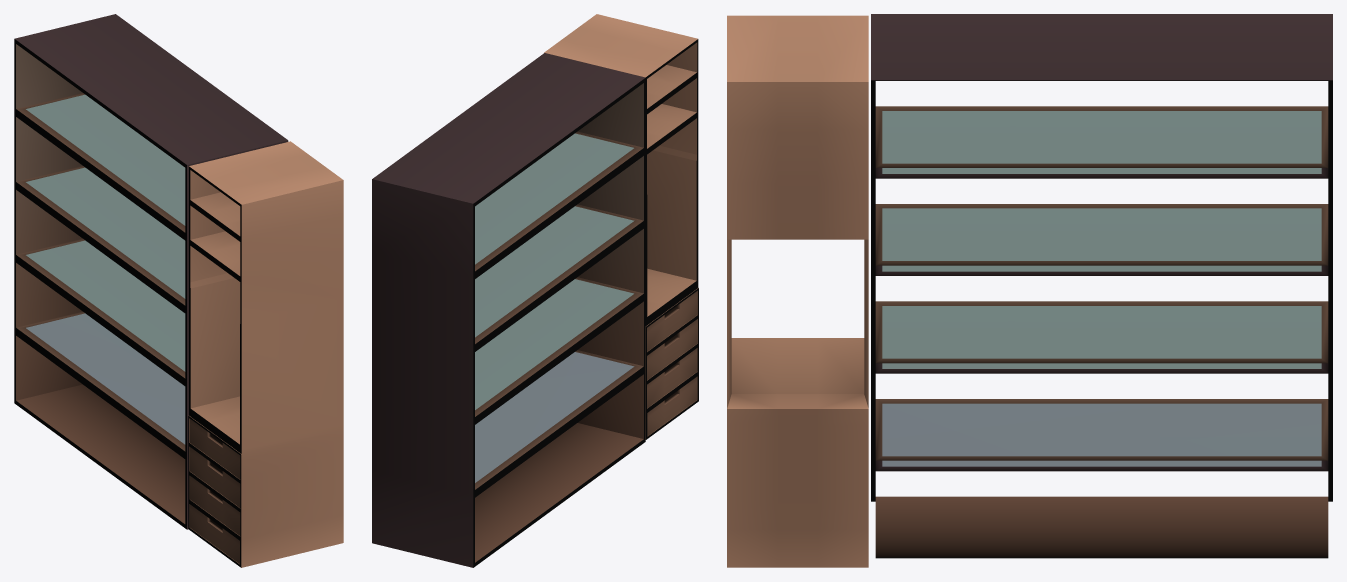
The model's file is Shkaf 3.fbx.
3 renders of one model, left to right at view 1: azimuth 30°, elevation 25°; view 2: azimuth 150°, elevation 25°; view 3: azimuth 270°, elevation 25°, orthographic. The views are drawn at different scales.
Parts seen in each view (by area): view 1: Shkaf 3; view 2: Shkaf 3; view 3: Shkaf 3.
Boxes of the visible parts, x1,y1,x2,y2 form: Shkaf 3: (14, 14, 343, 567); Shkaf 3: (372, 14, 698, 567); Shkaf 3: (727, 14, 1332, 567).
Bounding box in the file's own units: 0.5926 × 2.26 × 2.01.
